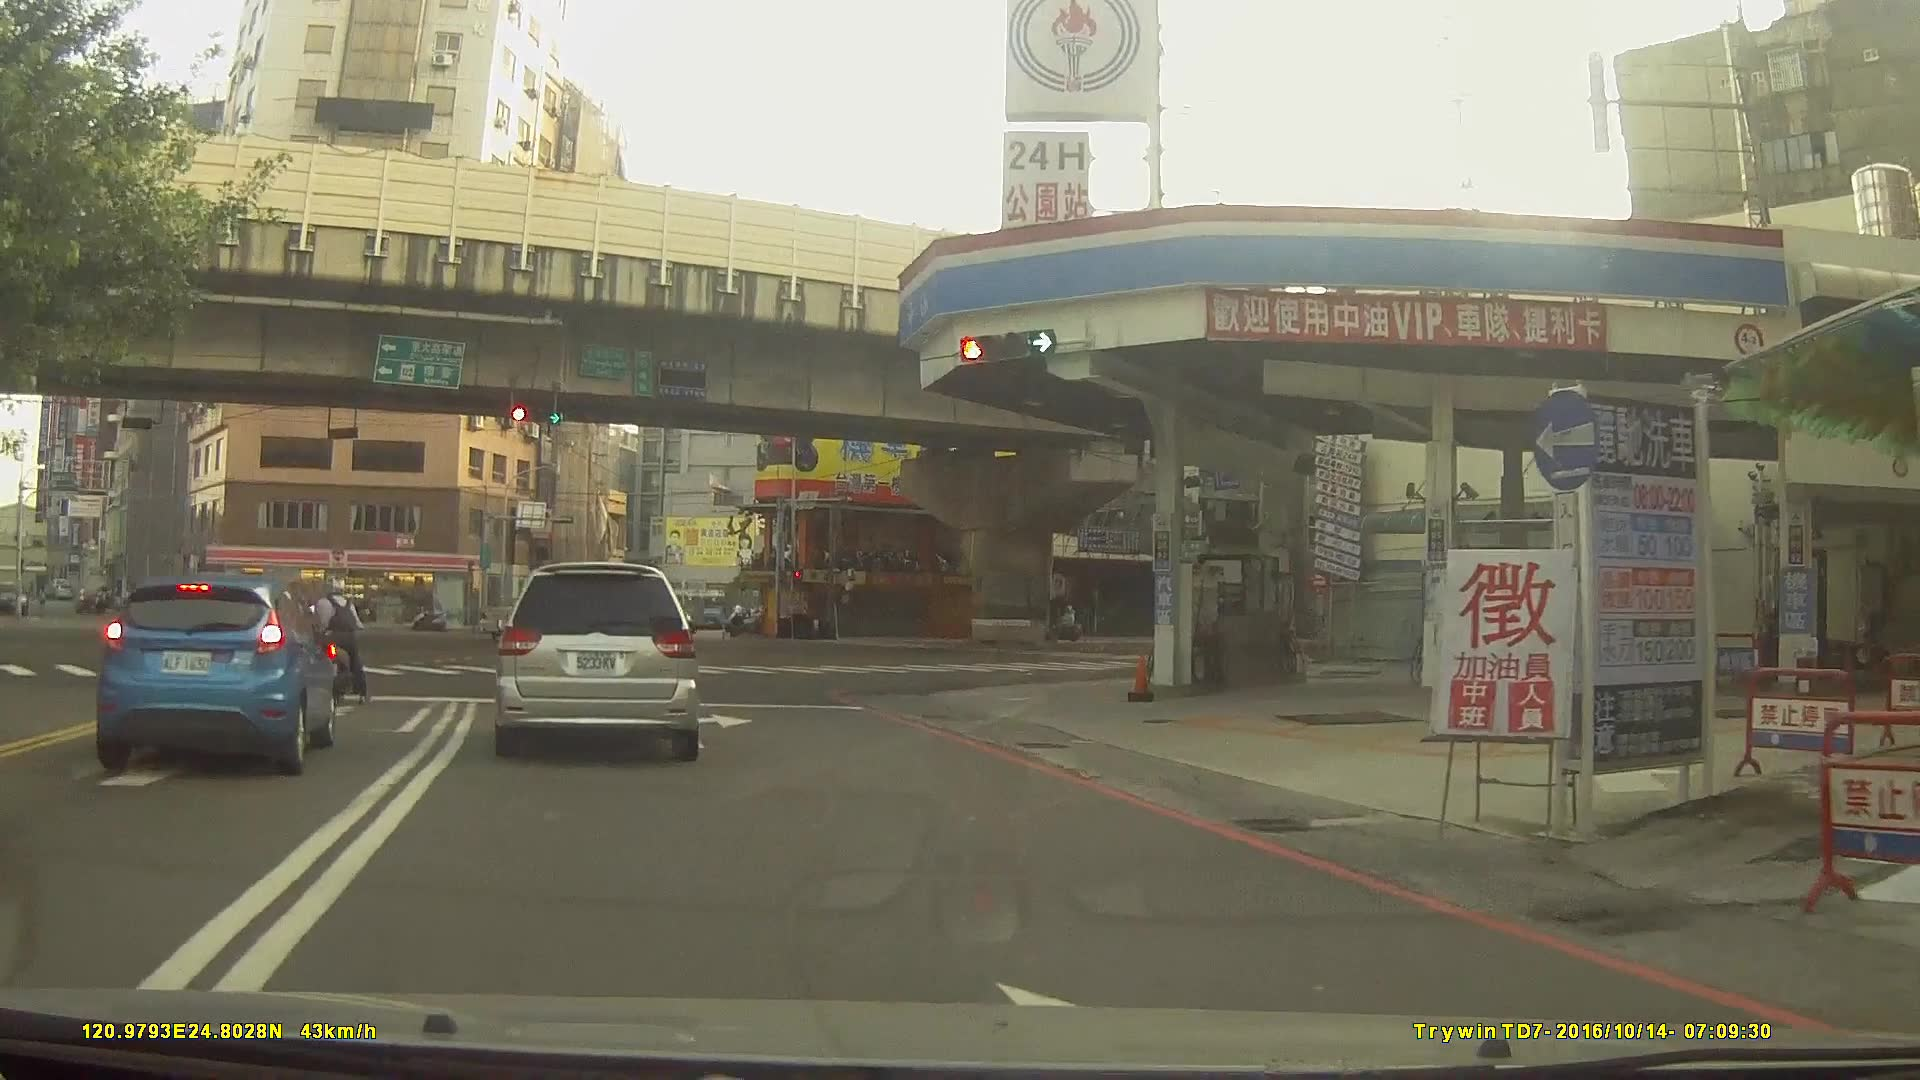rider: (313, 578, 373, 717)
vehicle: (90, 571, 337, 777), (491, 560, 700, 762), (165, 585, 301, 637), (543, 606, 605, 633)
